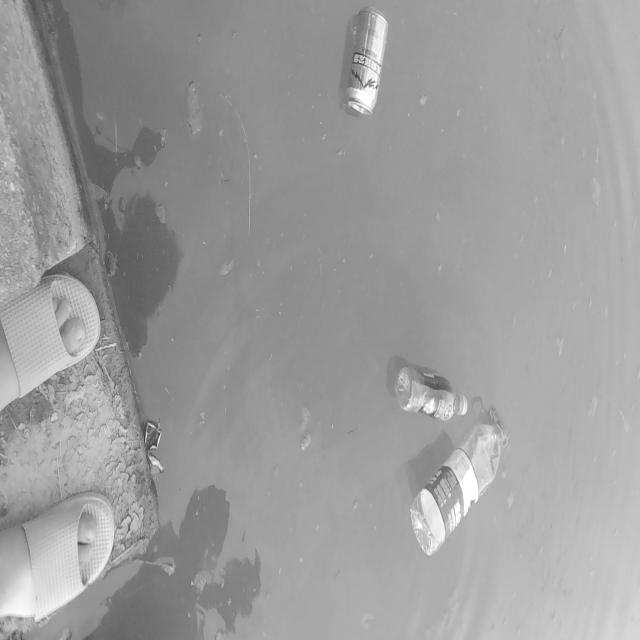bottle: (392, 400, 521, 562), (381, 349, 474, 432)
